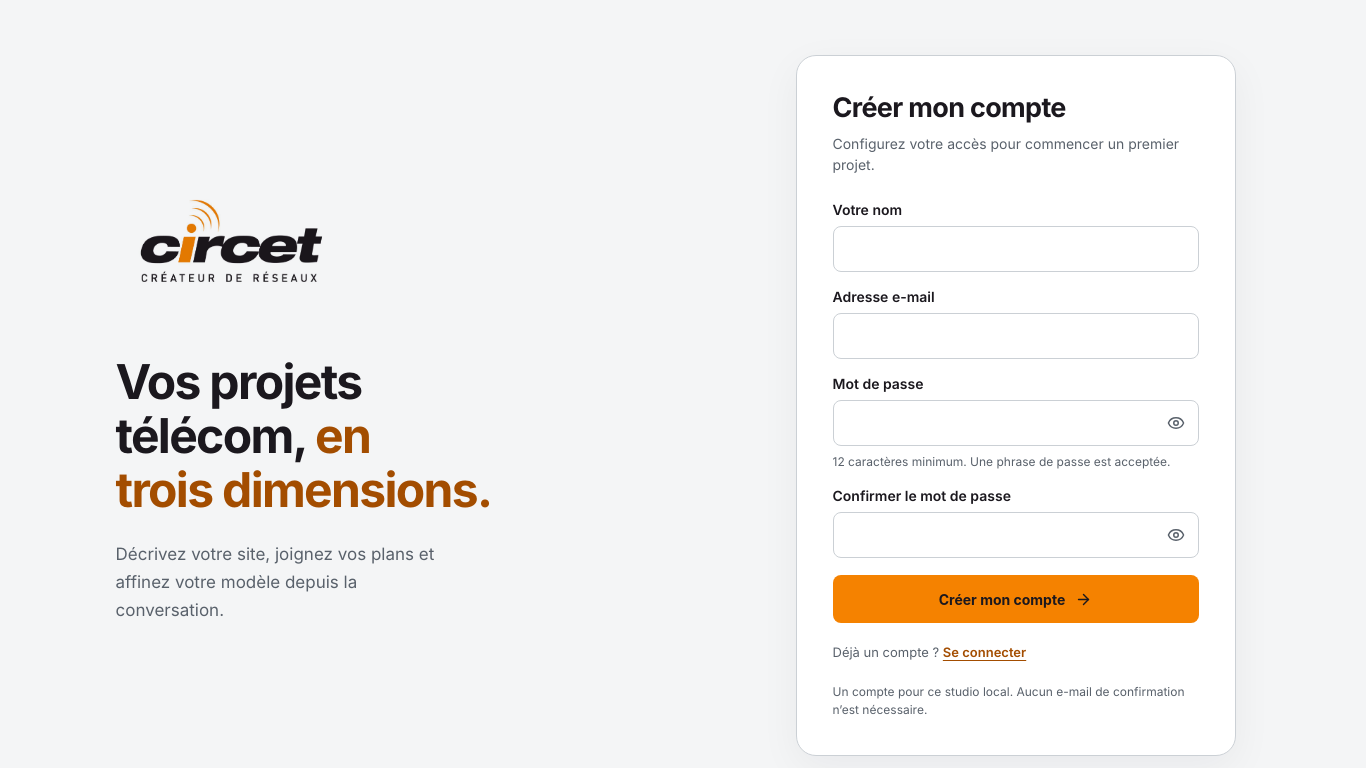
rejects a malformed email before registration and removes the unwanted brand note
The image size is (1366, 768).
Expected: the heading "Créer mon compte" is shown, 832,91 -> 1066,124
Type "Alice Martin" into the field labelled "Votre nom" at (1016, 249), box 832,226 -> 1198,272
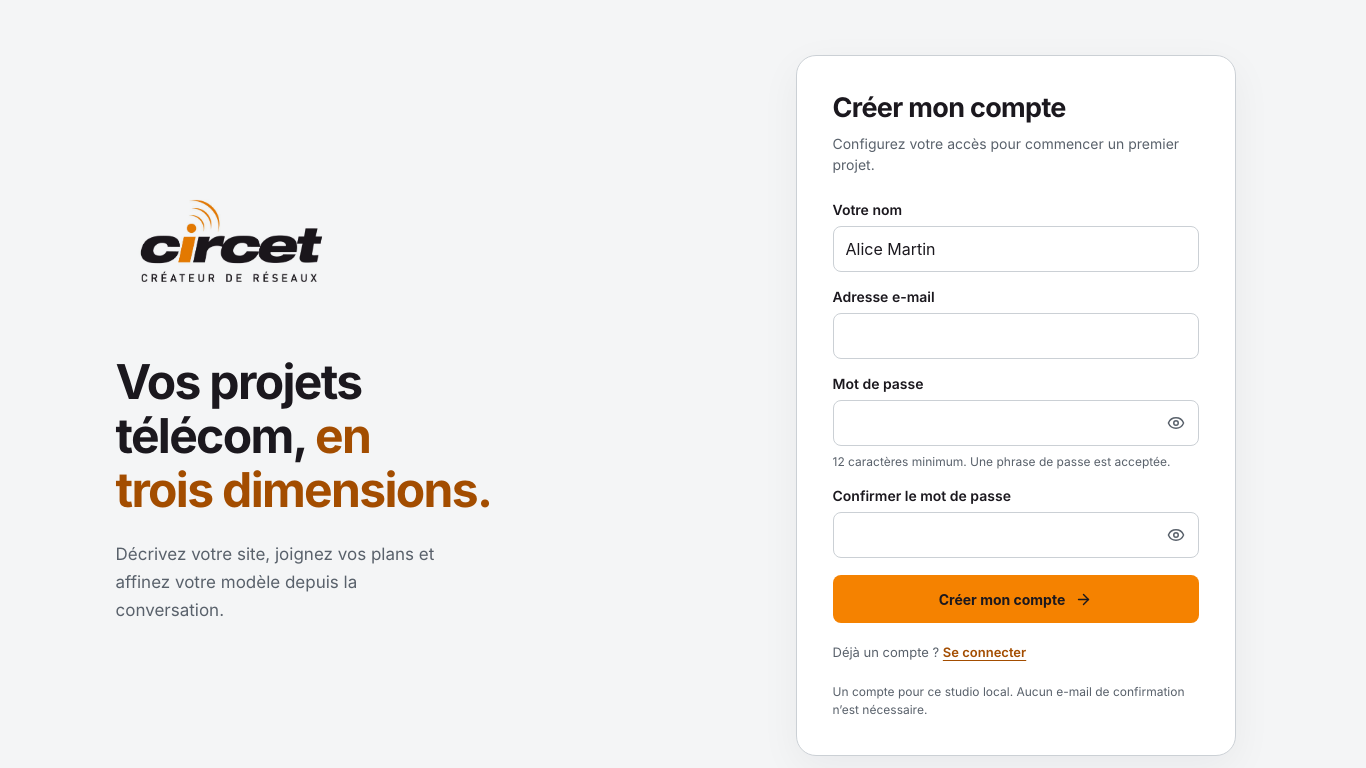
Type "bad-email" into the field labelled "Adresse e-mail" at (1016, 336), box 832,313 -> 1198,359
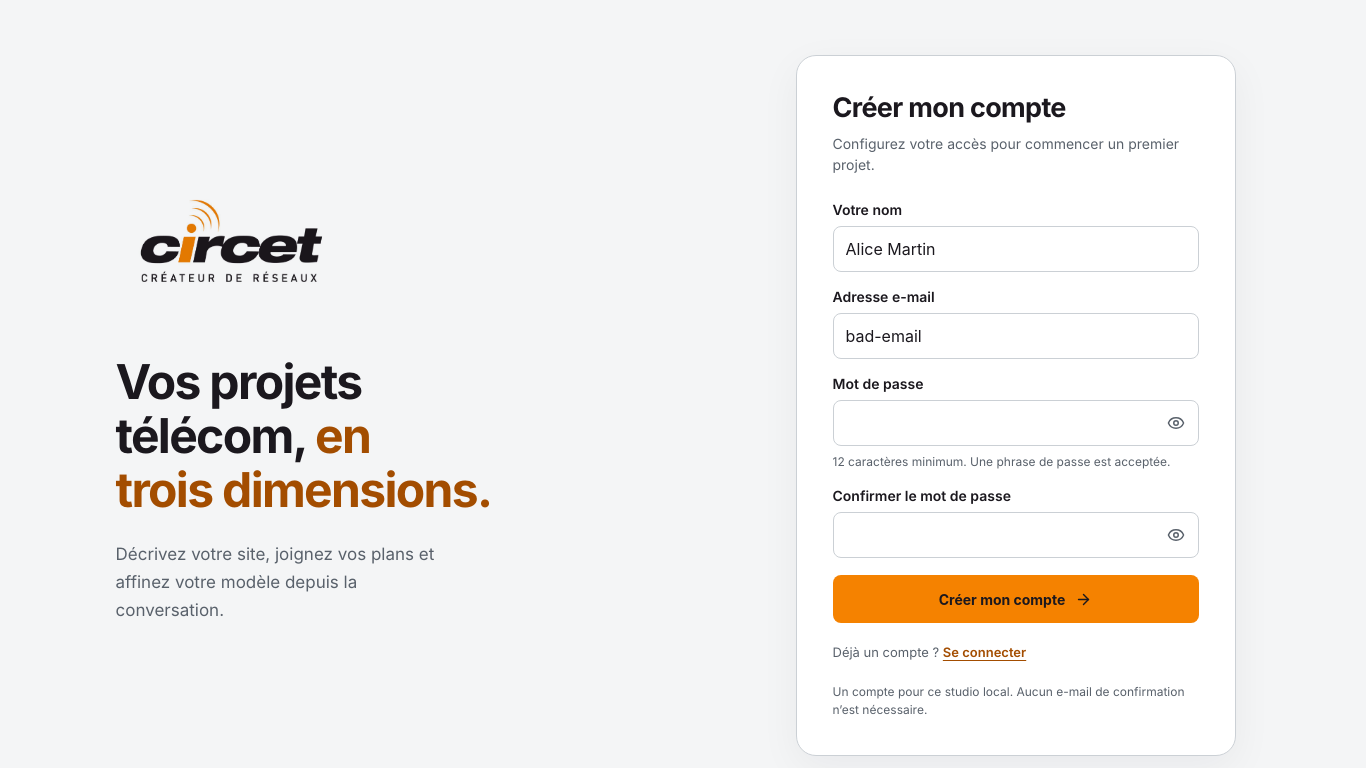
Click the button "Créer mon compte" at (1016, 599), box 832,575 -> 1198,623
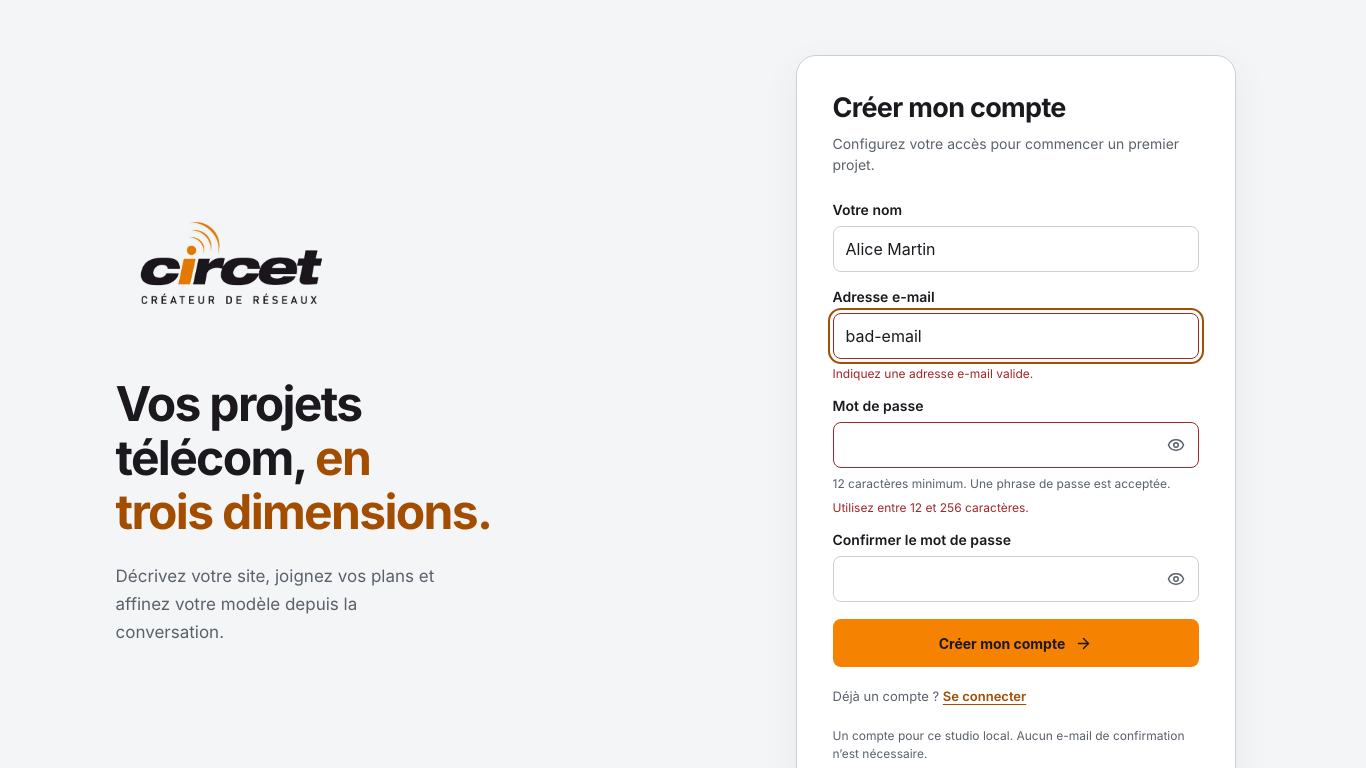
Expected: the text "Indiquez une adresse e-mail valide." is shown, 832,366 -> 1033,381
